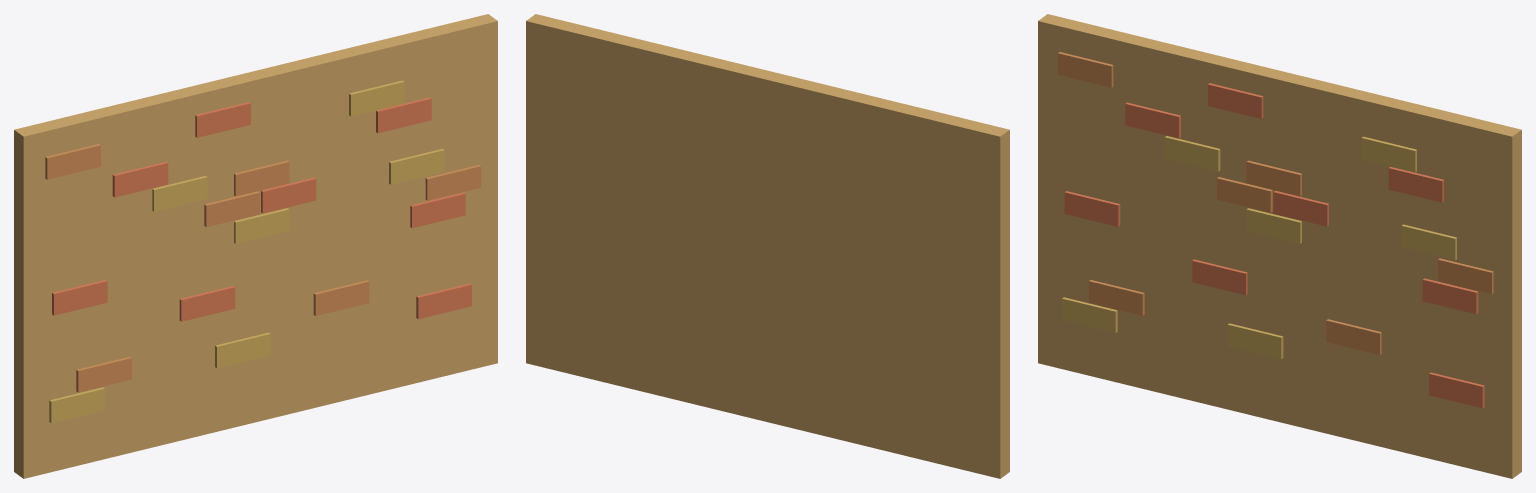
File: wall solid.fbx
3 views of the same model, side by side, from view 1: azimuth 30°, elevation 25°; view 2: azimuth 150°, elevation 25°; view 3: azimuth 330°, elevation 25° (orthographic).
Parts seen in each view (by area): view 1: polySurface465, polySurface470, polySurface474, polySurface468, polySurface477, polySurface410, polySurface475, polySurface462, polySurface459, polySurface472, polySurface473, polySurface458 (+9 smaller); view 2: polySurface465; view 3: polySurface465, polySurface472, polySurface410, polySurface476, polySurface475, polySurface470, polySurface471, polySurface474, polySurface473, polySurface458, polySurface463, polySurface461 (+9 smaller).
Part boxes in pixels (<box>): polySurface465: <box>14,14,497,478</box>; polySurface470: <box>179,286,235,321</box>; polySurface474: <box>112,161,168,197</box>; polySurface468: <box>425,165,481,200</box>; polySurface477: <box>313,280,369,315</box>; polySurface410: <box>215,332,270,368</box>; polySurface475: <box>410,192,465,228</box>; polySurface462: <box>376,97,431,133</box>; polySurface459: <box>349,80,404,116</box>; polySurface472: <box>52,280,107,315</box>; polySurface473: <box>76,357,131,392</box>; polySurface458: <box>49,387,104,423</box>; polySurface465: <box>526,14,1009,478</box>; polySurface465: <box>1038,14,1521,478</box>; polySurface472: <box>1064,191,1120,226</box>; polySurface410: <box>1227,323,1283,359</box>; polySurface476: <box>1164,136,1220,171</box>; polySurface475: <box>1422,278,1478,314</box>; polySurface470: <box>1192,259,1247,295</box>; polySurface471: <box>1058,52,1113,87</box>; polySurface474: <box>1125,102,1180,138</box>; polySurface473: <box>1089,280,1144,315</box>; polySurface458: <box>1062,297,1117,333</box>; polySurface463: <box>1246,160,1301,196</box>; polySurface461: <box>1217,177,1272,212</box>.
Size of the model in its own units: 5 by 3.45 by 0.2093.
